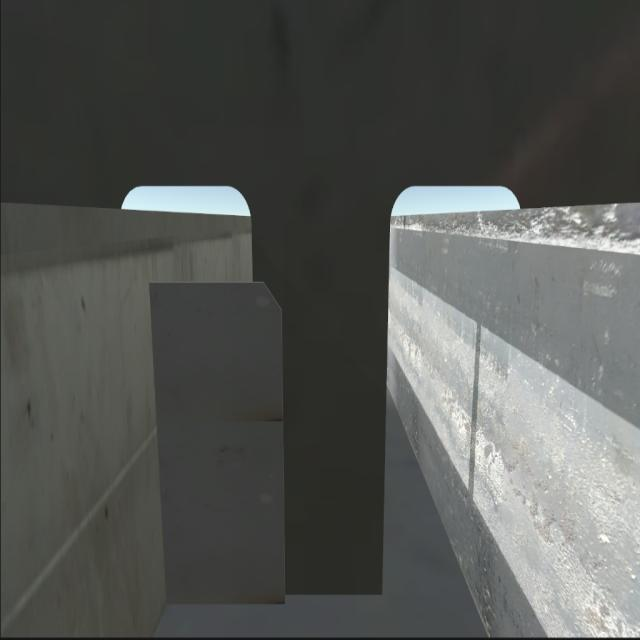fillet_yong_jeop_jang: (165, 588, 392, 618)
longi_yong_jeop_jang: (140, 279, 178, 621)
plate_CP03: (148, 283, 288, 597)
